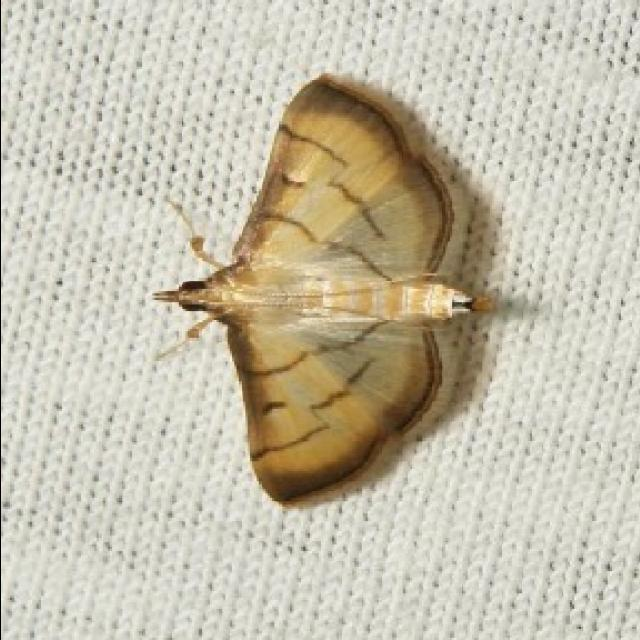rice leaf roller: (156, 76, 489, 507)
